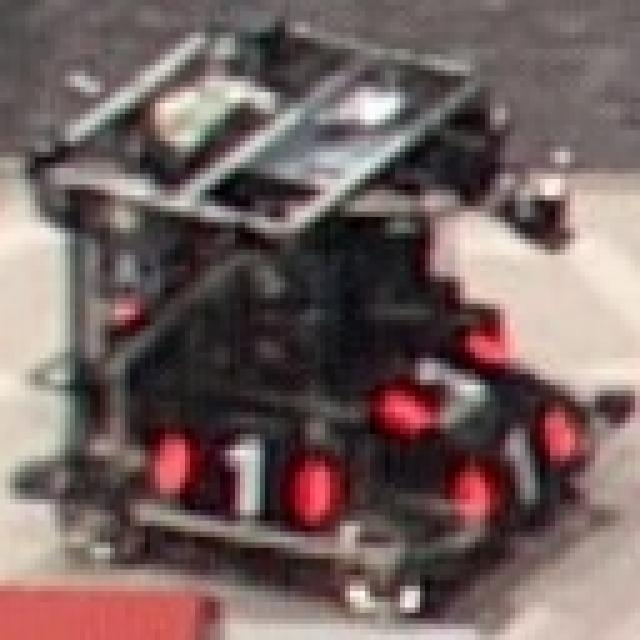R1: (140, 418, 335, 532), (380, 325, 515, 434), (460, 406, 575, 520)
